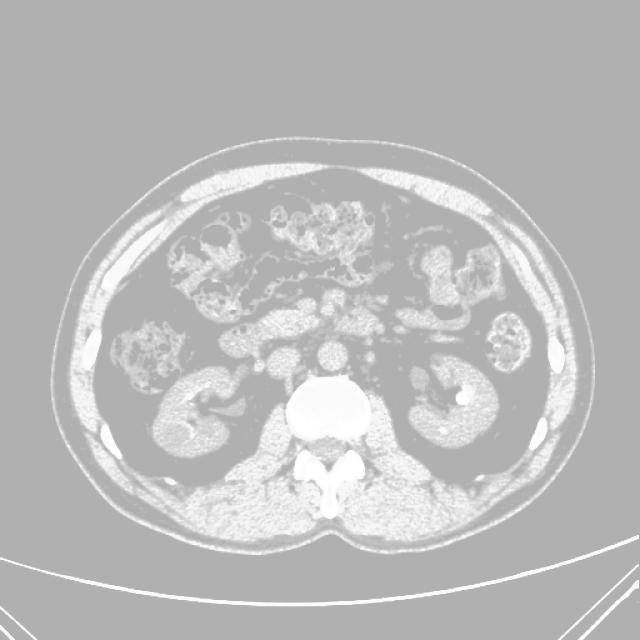STONE: (140, 266, 506, 438)
